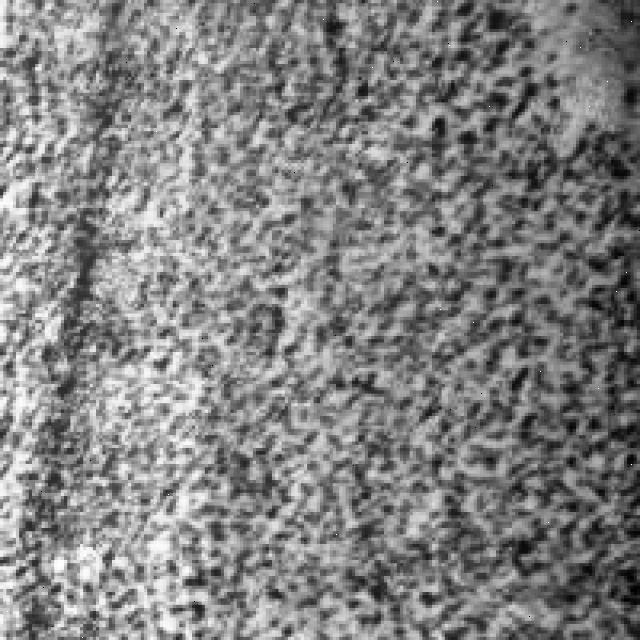Rolled_in_Scale: (259, 3, 627, 634)
